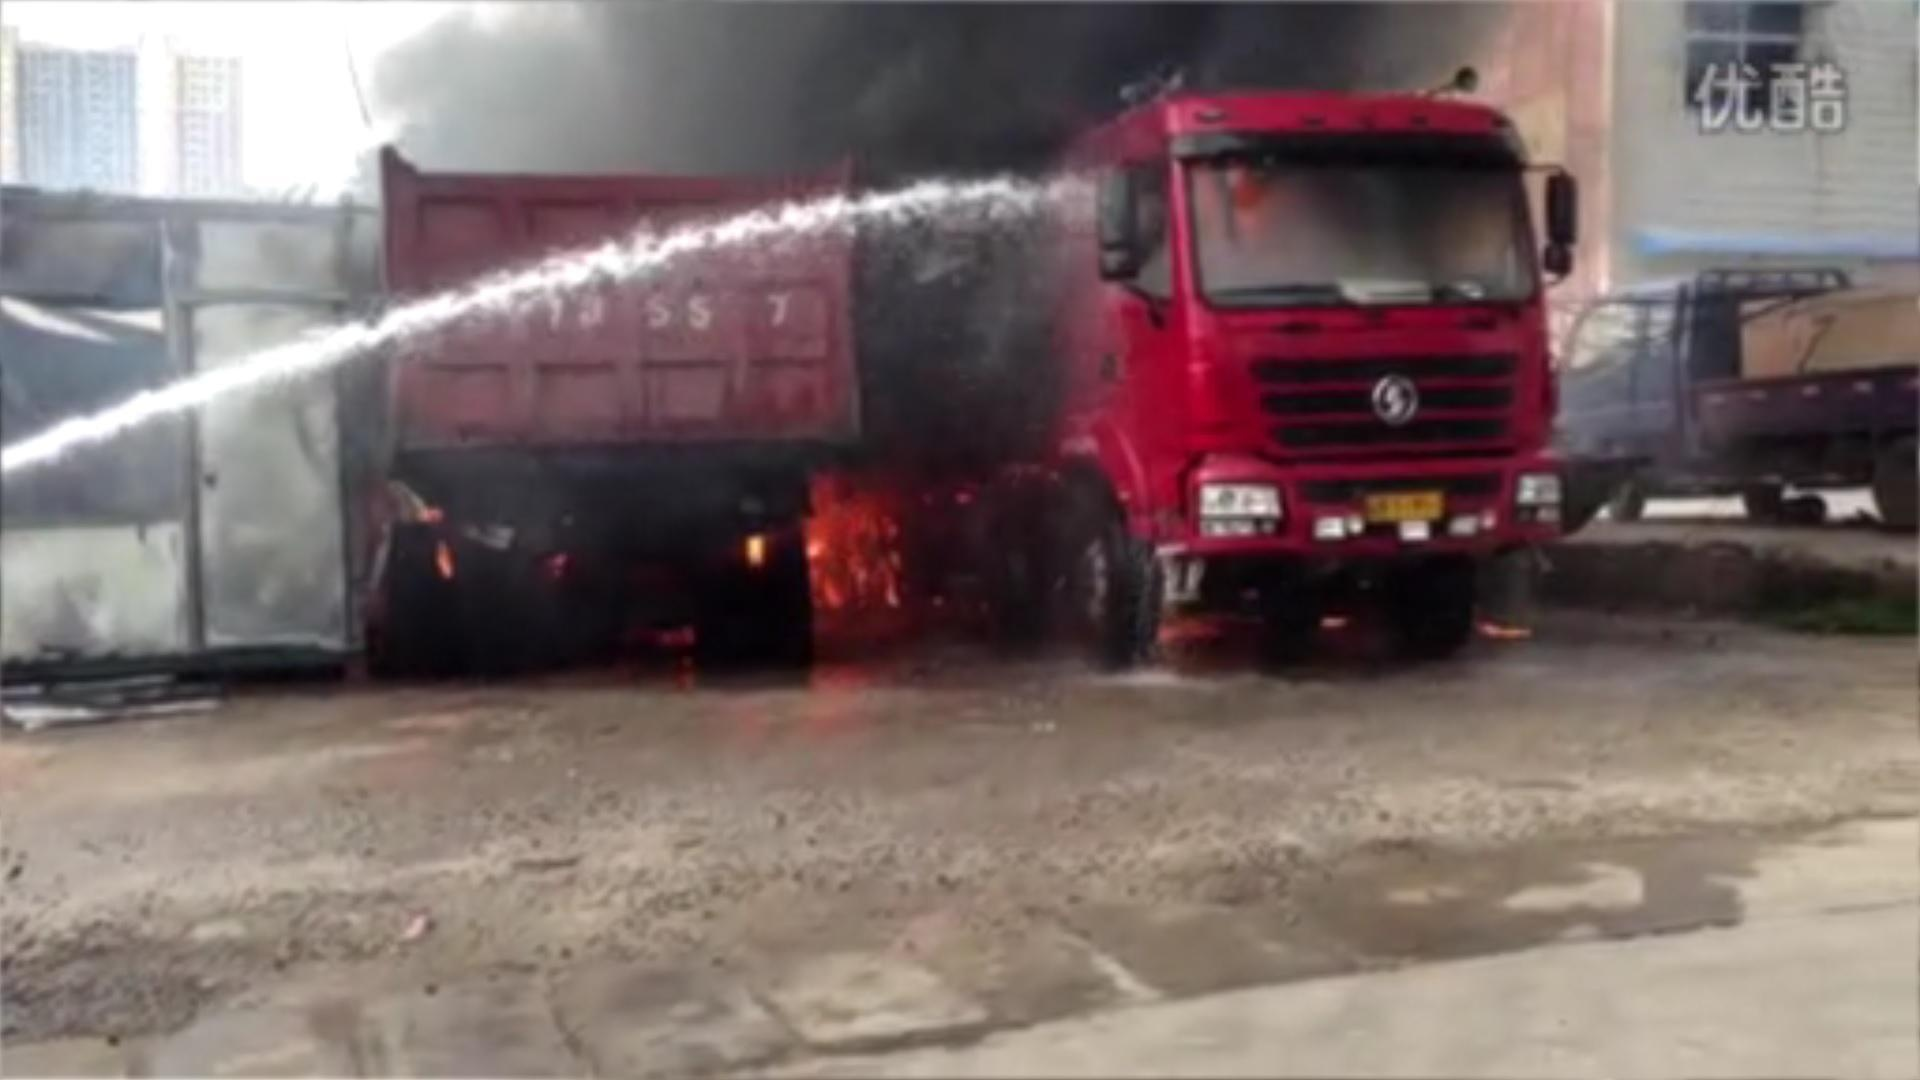fire: (779, 477, 915, 608)
